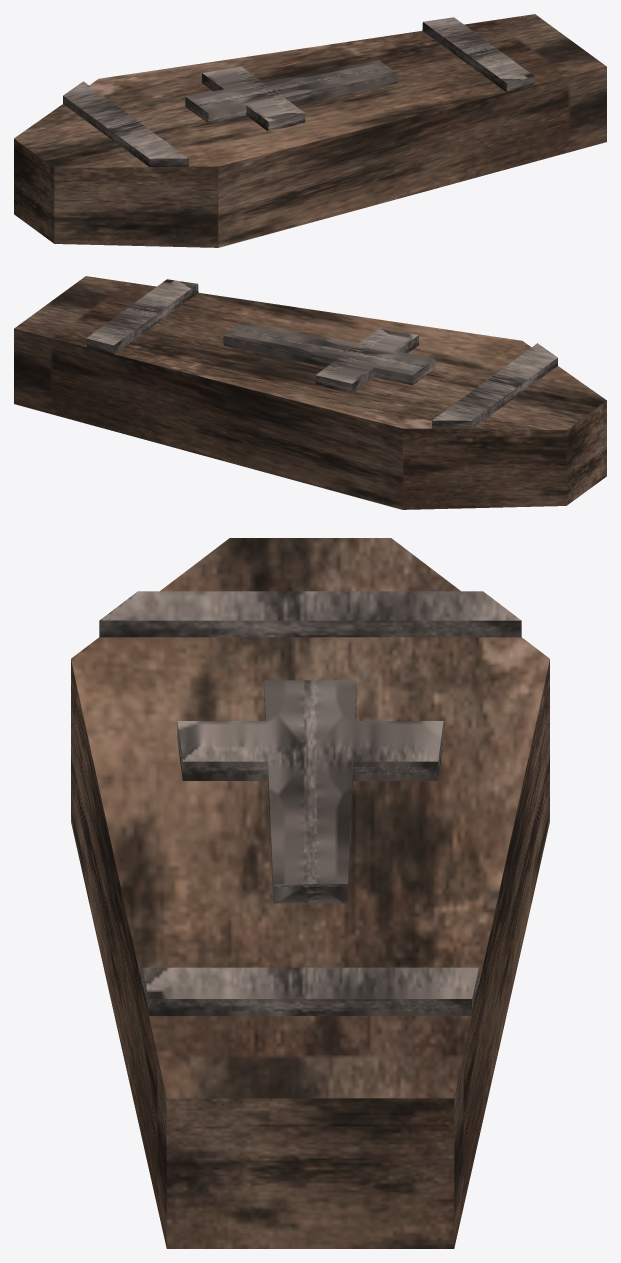
File: psx_coffin.glb
3 views of the same model, one above another, from view 1: azimuth 30°, elevation 25°; view 2: azimuth 150°, elevation 25°; view 3: azimuth 270°, elevation 25° (orthographic). The views are drawn at different scales.
Parts seen in each view (by area): view 1: Casket, Cross, WoodPiece1, WoodPiece2; view 2: Casket, Cross, WoodPiece1, WoodPiece2; view 3: Casket, Cross, WoodPiece1, WoodPiece2.
Part boxes in pixels (bbox=[...]): Casket: bbox=[14, 14, 606, 247]; Cross: bbox=[185, 60, 397, 131]; WoodPiece1: bbox=[63, 81, 188, 166]; WoodPiece2: bbox=[422, 17, 534, 92]; Casket: bbox=[14, 276, 606, 509]; Cross: bbox=[223, 322, 435, 393]; WoodPiece1: bbox=[432, 343, 557, 428]; WoodPiece2: bbox=[86, 279, 198, 354]; Casket: bbox=[71, 538, 549, 1248]; Cross: bbox=[177, 680, 443, 903]; WoodPiece1: bbox=[99, 591, 521, 637]; WoodPiece2: bbox=[142, 967, 478, 1015].
Bounding box in the file's own units: 10.35 × 1.88 × 4.
Materials: 2 (2 with a texture image).
